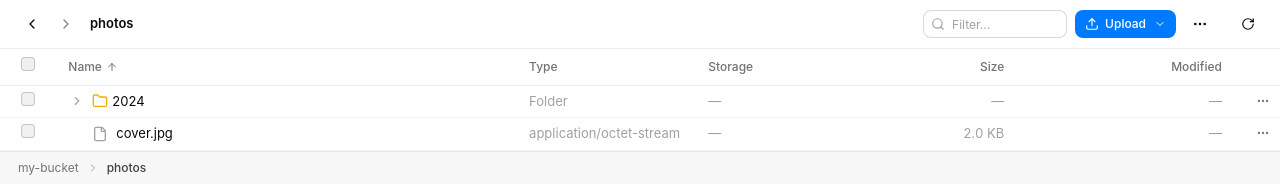
Test: ObjectBrowser top toolbar › back/forward buttons traverse the navigation history
Expected: the heading with test id "current-folder-name" reads "photos", top-left (90, 15), bottom-right (134, 31)
Step 1. Click the button named "Back" → (32, 24), box top-left (16, 8), bottom-right (48, 40)
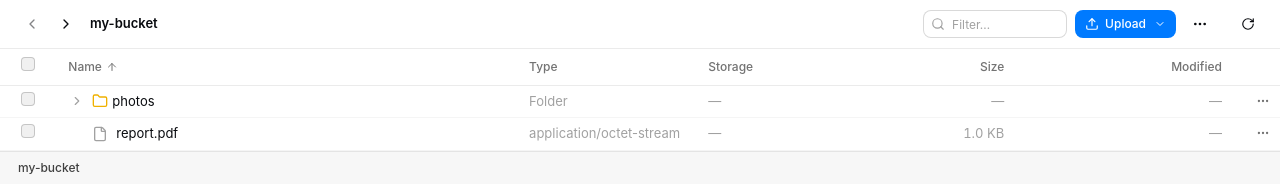
Now the heading with test id "current-folder-name" reads "my-bucket", box top-left (90, 15), bottom-right (158, 31)
Step 2. Click the button named "Forward" → (66, 24), box top-left (50, 8), bottom-right (82, 40)
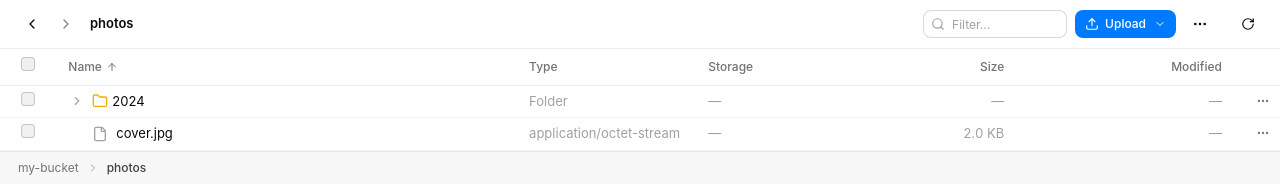
Now the heading with test id "current-folder-name" reads "photos", box top-left (90, 15), bottom-right (134, 31)
